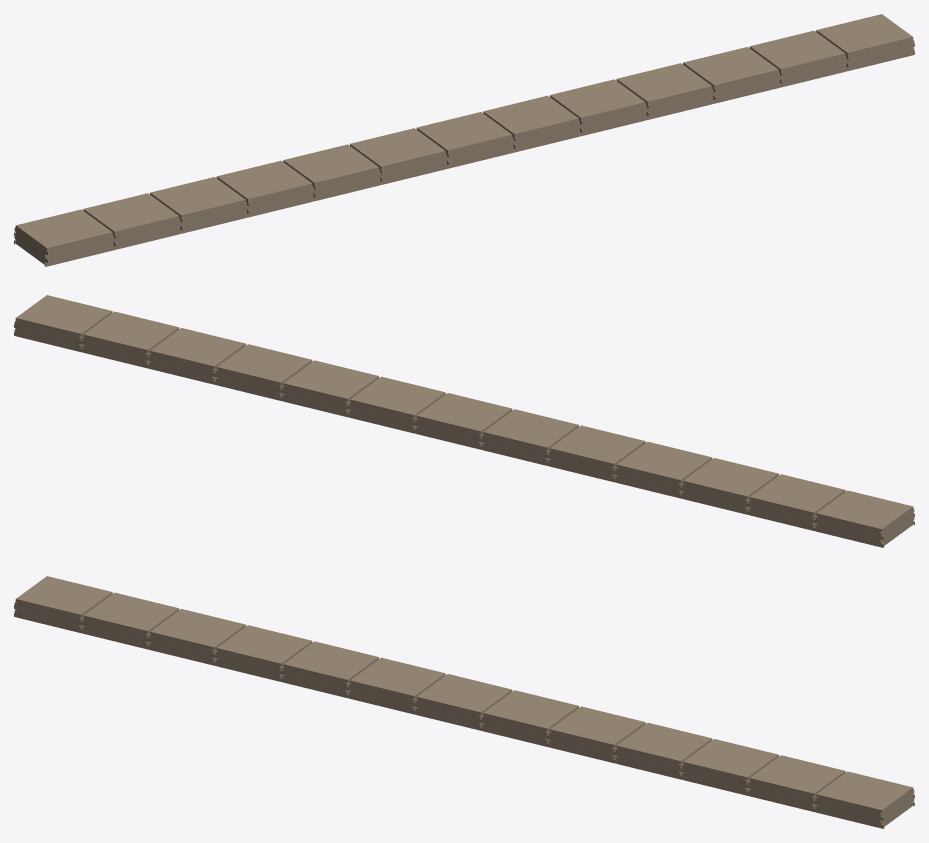
Rendered from south_pier__crib_1835.glb.
The picture shows the model from 3 angles, top to bottom: view 1: azimuth 30°, elevation 25°; view 2: azimuth 150°, elevation 25°; view 3: azimuth 330°, elevation 25°; orthographic projection.
Parts seen in each view (by area): view 1: south_pier__crib_1835; view 2: south_pier__crib_1835; view 3: south_pier__crib_1835.
Boxes of the visible parts, box(x1,y1,x2,y2) form: south_pier__crib_1835: box(14, 14, 914, 266); south_pier__crib_1835: box(14, 295, 914, 547); south_pier__crib_1835: box(14, 576, 914, 828).
Bounding box in the file's own units: 122 × 2.47 × 8.1.
